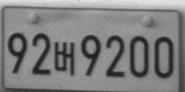0: (153, 35, 175, 78), (129, 34, 149, 78)
2: (104, 34, 125, 77), (31, 31, 51, 75)
9: (6, 31, 28, 73), (80, 34, 101, 76)
버: (54, 41, 75, 76)
